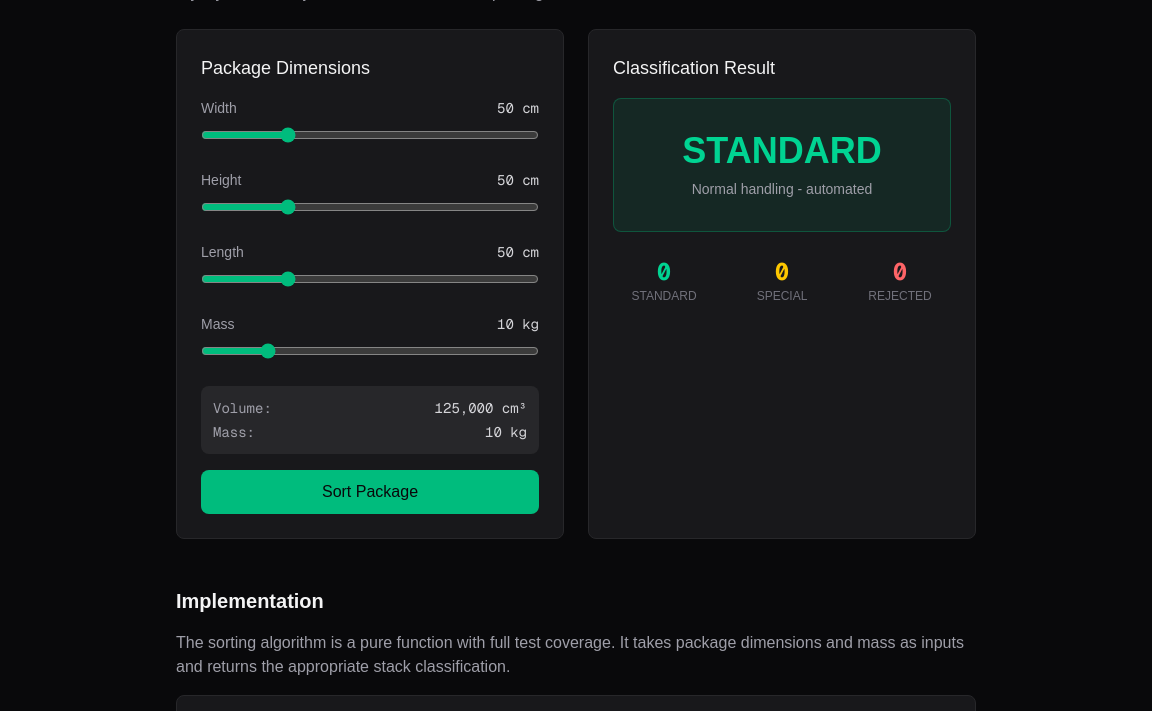
it: PackageSorterPage › updates classification when mass slider makes package heavy
(page scrolled)
Set the 4th slider to "25" at (367, 351), box top-left (201, 343), bottom-right (539, 359)
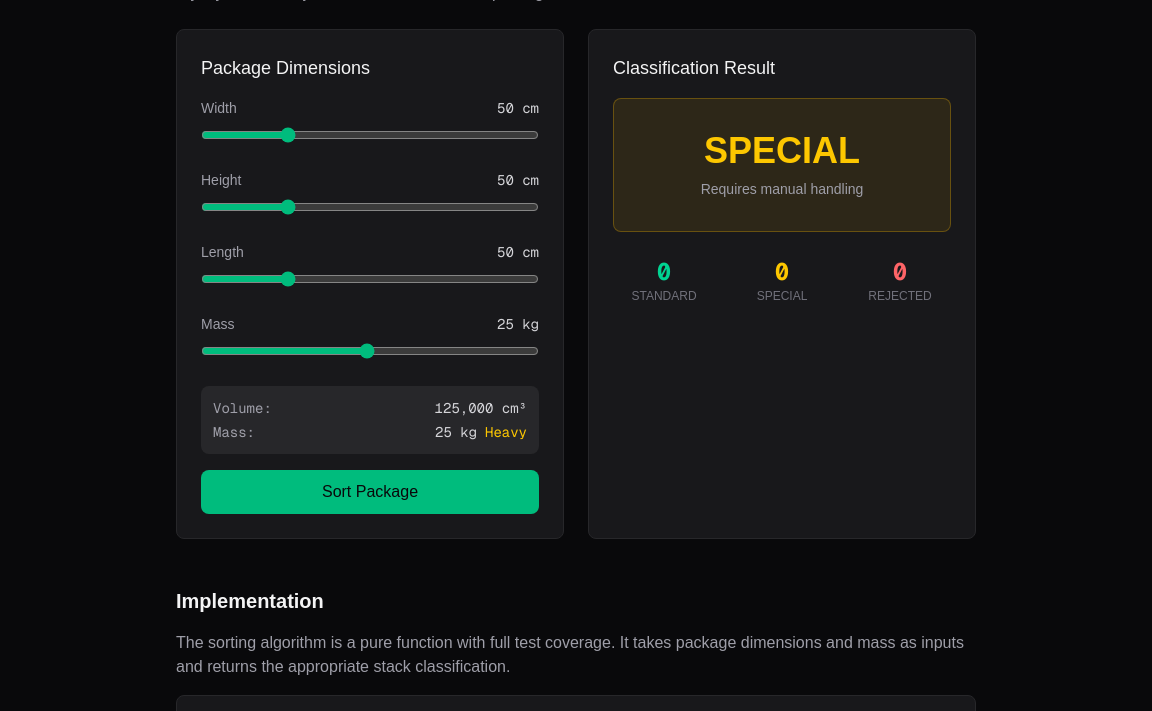
Now the text "Requires manual handling" is shown, box top-left (701, 181), bottom-right (863, 197)
